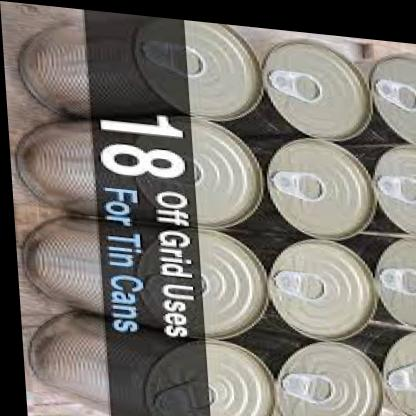Metal: (10, 4, 416, 416)
